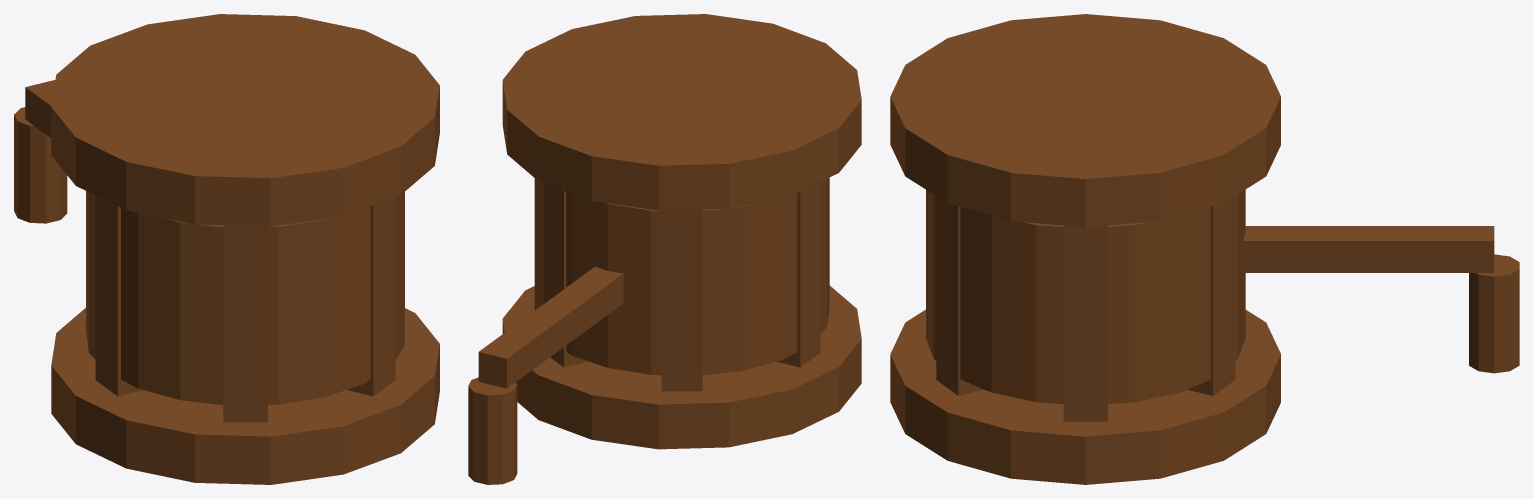
The model's file is hoist.obj.
3 views of the same model, side by side, from view 1: azimuth 30°, elevation 25°; view 2: azimuth 150°, elevation 25°; view 3: azimuth 270°, elevation 25° (orthographic). The views are drawn at different scales.
Visible parts, largest first — view 1: hoist_wood; view 2: hoist_wood; view 3: hoist_wood.
Boxes of the visible parts, x1,y1,x2,y2 form: hoist_wood: (14,14,439,484); hoist_wood: (468,14,861,484); hoist_wood: (890,14,1519,484).
Size of the model in its own units: 0.44 by 0.38 by 0.7085.
